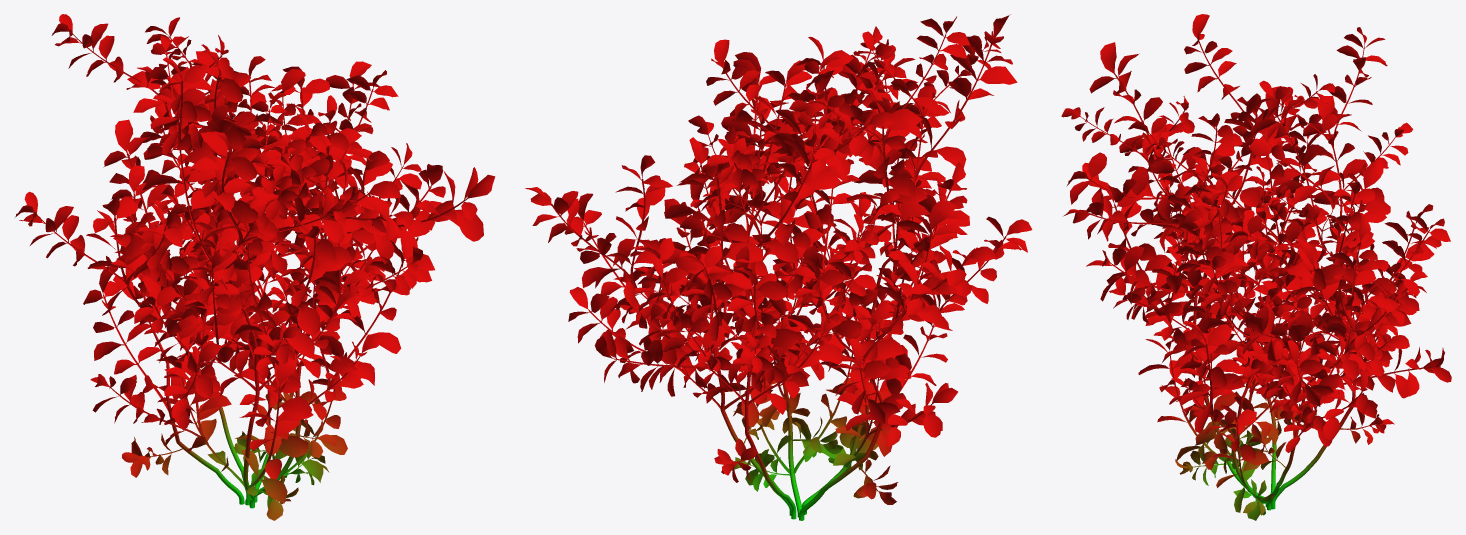
File: European Spindle_LOD1_Var11.fbx
The picture shows the model from 3 angles, left to right: view 1: azimuth 30°, elevation 25°; view 2: azimuth 150°, elevation 25°; view 3: azimuth 270°, elevation 25°; orthographic projection. The views are drawn at different scales.
Visible parts, largest first — view 1: _jig3_Var11_LOD1; view 2: _jig3_Var11_LOD1; view 3: _jig3_Var11_LOD1.
Part boxes in pixels (box(x1,y1,x2,y2)): _jig3_Var11_LOD1: box(15, 14, 495, 520); _jig3_Var11_LOD1: box(525, 14, 1032, 520); _jig3_Var11_LOD1: box(1061, 14, 1451, 520).
Bounding box in the file's own units: 176 × 198 × 159.
